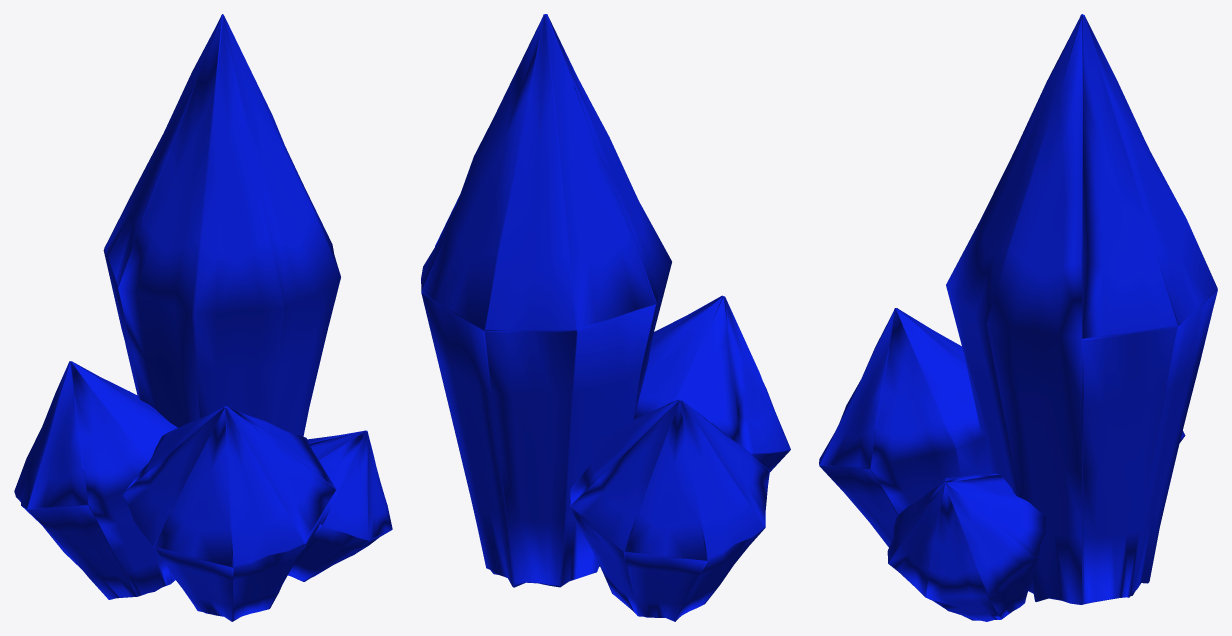
File: GreenCrystal.fbx
3 renders of one model, left to right at view 1: azimuth 30°, elevation 25°; view 2: azimuth 150°, elevation 25°; view 3: azimuth 270°, elevation 25°, orthographic. The views are drawn at different scales.
Parts seen in each view (by area): view 1: Crystal_Middle, Crystal_Middle.002, Crystal_Middle.001, Crystal_Middle.003; view 2: Crystal_Middle, Crystal_Middle.001, Crystal_Middle.002; view 3: Crystal_Middle, Crystal_Middle.002, Crystal_Middle.003.
Boxes of the visible parts, x1=… form: Crystal_Middle: x1=103, y1=14, x2=340, y2=436; Crystal_Middle.002: x1=122, y1=406, x2=336, y2=621; Crystal_Middle.001: x1=14, y1=361, x2=177, y2=599; Crystal_Middle.003: x1=288, y1=430, x2=392, y2=581; Crystal_Middle: x1=421, y1=14, x2=671, y2=587; Crystal_Middle.001: x1=570, y1=398, x2=769, y2=621; Crystal_Middle.002: x1=634, y1=295, x2=790, y2=471; Crystal_Middle: x1=946, y1=14, x2=1217, y2=604; Crystal_Middle.002: x1=819, y1=308, x2=992, y2=547; Crystal_Middle.003: x1=887, y1=472, x2=1046, y2=621.
Size of the model in its own units: 235 by 390 by 236.
